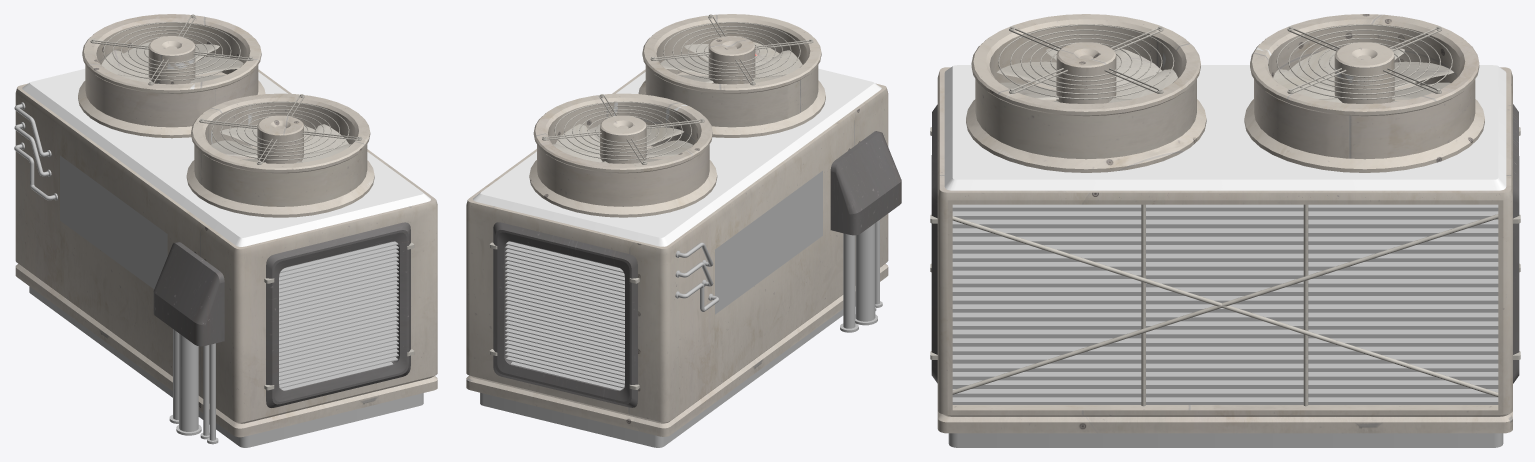
Rendered from KB3D_CBP_ACunit_F.fbx.
3 views of the same model, side by side, from view 1: azimuth 30°, elevation 25°; view 2: azimuth 150°, elevation 25°; view 3: azimuth 270°, elevation 25° (orthographic). The views are drawn at different scales.
Visible parts, largest first — view 1: KB3D_CBP_ACunit_F_Main; view 2: KB3D_CBP_ACunit_F_Main; view 3: KB3D_CBP_ACunit_F_Main.
Boxes of the visible parts, x1,y1,x2,y2 form: KB3D_CBP_ACunit_F_Main: (14,14,437,447); KB3D_CBP_ACunit_F_Main: (466,14,901,447); KB3D_CBP_ACunit_F_Main: (930,14,1520,447).
Bounding box in the file's own units: 191 × 209 × 332.
